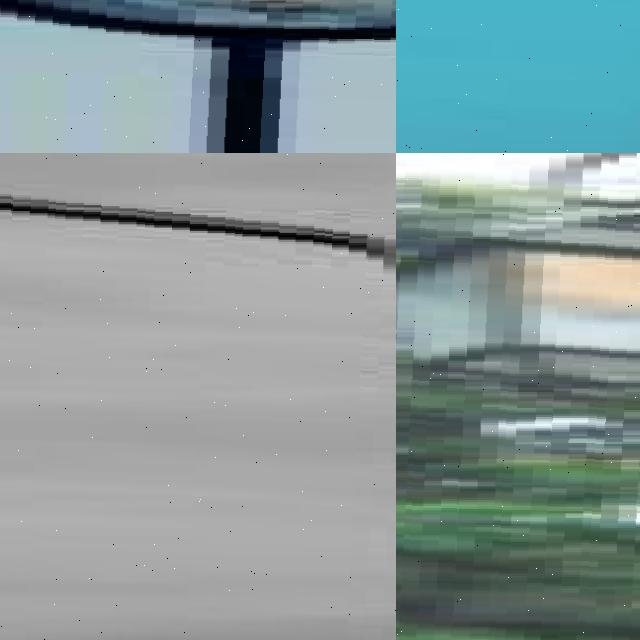street light: (0, 153, 396, 640), (396, 153, 640, 640), (0, 0, 396, 153), (396, 0, 640, 153)
